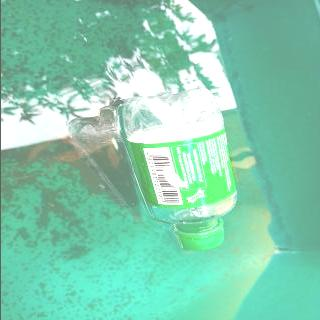bottle: (117, 87, 239, 250)
